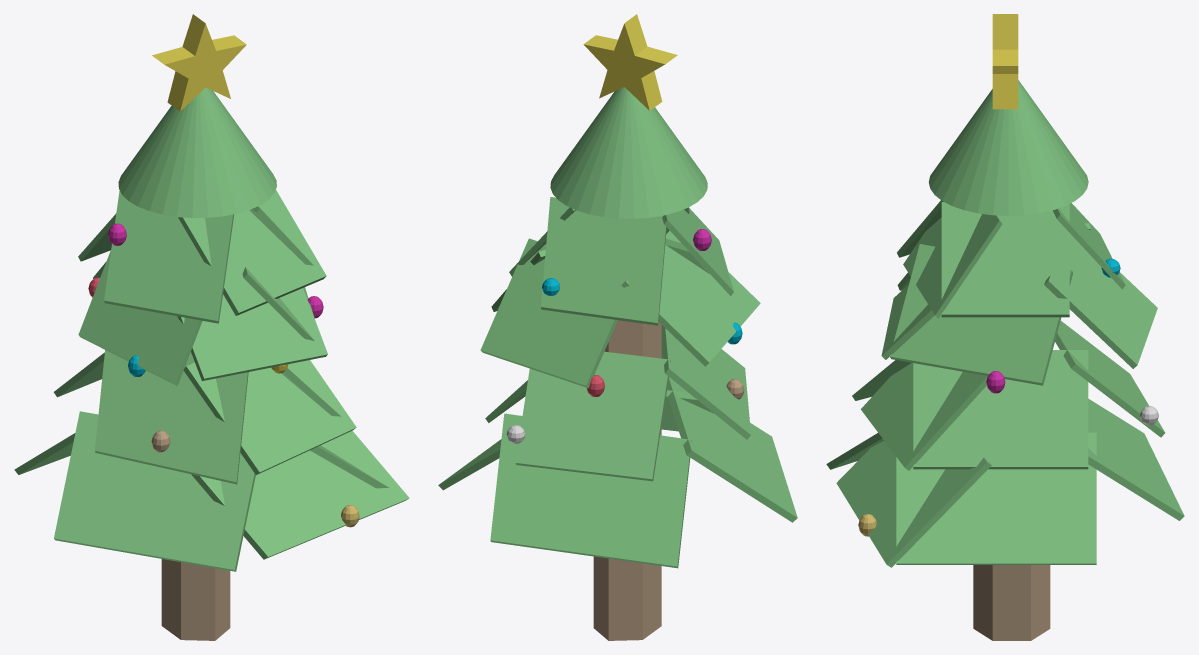
The picture shows the model from 3 angles, left to right: view 1: azimuth 30°, elevation 25°; view 2: azimuth 150°, elevation 25°; view 3: azimuth 270°, elevation 25°; orthographic projection.
Parts seen in each view (by area): view 1: Geode; view 2: Geode; view 3: Geode.
Boxes of the visible parts, left/top/right/bottom form: Geode: left=14, top=14, right=409, bottom=640; Geode: left=438, top=14, right=797, bottom=640; Geode: left=826, top=14, right=1184, bottom=640.
Bounding box in the file's own units: 56 × 106 × 56.
